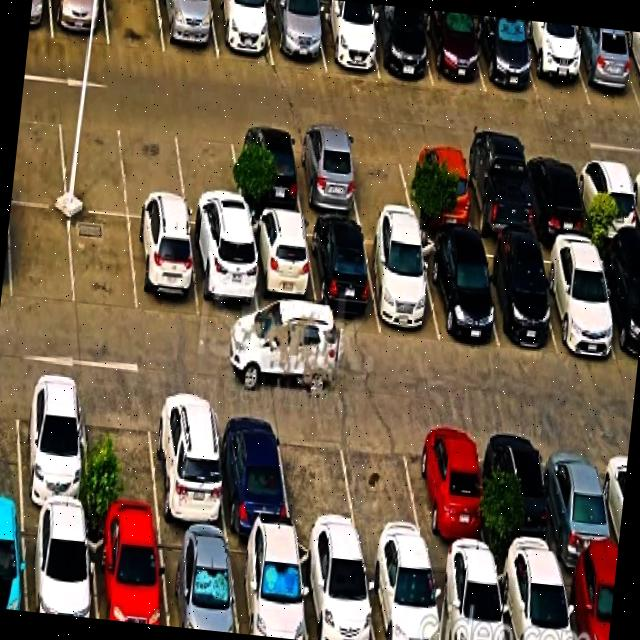empty: (339, 414, 427, 553), (277, 408, 359, 546), (82, 384, 159, 525), (174, 120, 243, 229), (58, 107, 127, 215), (120, 114, 186, 221), (69, 210, 136, 314), (9, 203, 74, 305), (344, 136, 414, 222), (11, 103, 66, 206), (104, 0, 164, 52), (0, 375, 21, 508)
occupied: (409, 419, 489, 560), (149, 392, 226, 532), (213, 399, 291, 536), (541, 431, 617, 569), (16, 375, 89, 517), (485, 425, 559, 564), (536, 241, 617, 357), (418, 235, 498, 347), (362, 227, 439, 341), (475, 240, 555, 348), (157, 528, 238, 633), (227, 536, 307, 640), (305, 221, 380, 331), (89, 521, 167, 626), (247, 216, 318, 329), (23, 512, 96, 618), (297, 542, 374, 640), (128, 218, 199, 318), (362, 552, 441, 640), (188, 226, 258, 325), (459, 147, 533, 239), (429, 555, 506, 640), (231, 126, 302, 216), (566, 25, 640, 111), (402, 142, 473, 231), (495, 560, 572, 640), (291, 131, 360, 219), (518, 21, 589, 105), (521, 152, 589, 238), (575, 155, 640, 243), (472, 14, 537, 99), (595, 245, 640, 365), (421, 9, 485, 92), (366, 7, 432, 85), (313, 1, 378, 78), (559, 565, 616, 640), (265, 0, 325, 69), (210, 0, 273, 65), (158, 0, 218, 60), (49, 0, 108, 44), (0, 511, 25, 611), (619, 33, 640, 106), (28, 0, 52, 38)
